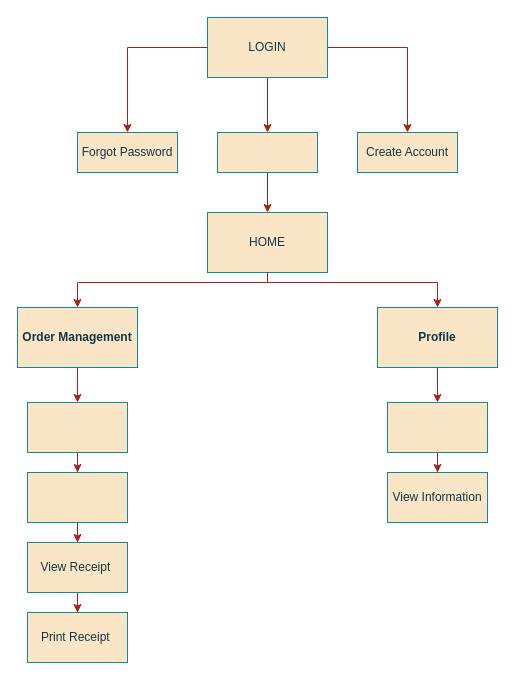
Image size: 515x680. Some labels were removed from this diagram. Here are the shapes that lost their labels. From the top down, the centre of each, then its label:
At (267,152): "Customer Login".
At (77,427): "Select item".
At (437,427): "Update Information".
At (77,497): "Track Orders".
